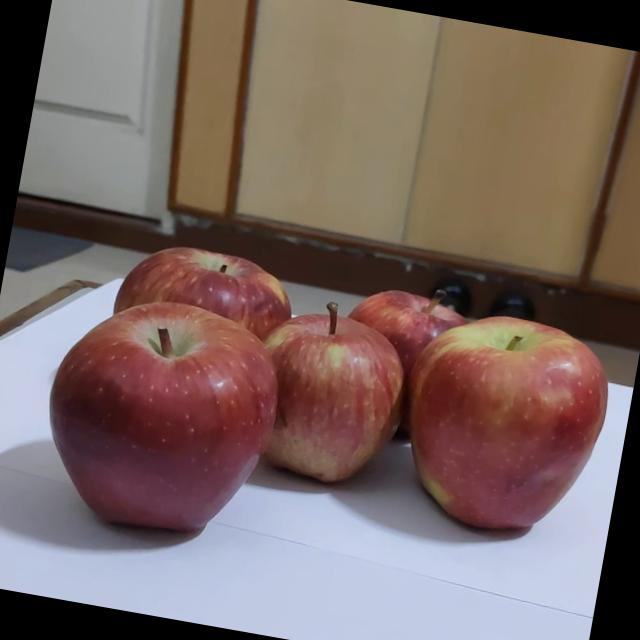apple: (44, 299, 316, 583), (52, 205, 278, 422), (384, 302, 600, 525), (227, 293, 420, 486), (288, 242, 452, 401)
